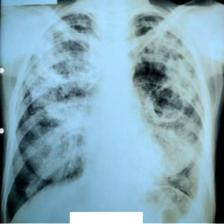tuberculosis: (3, 7, 207, 224)
